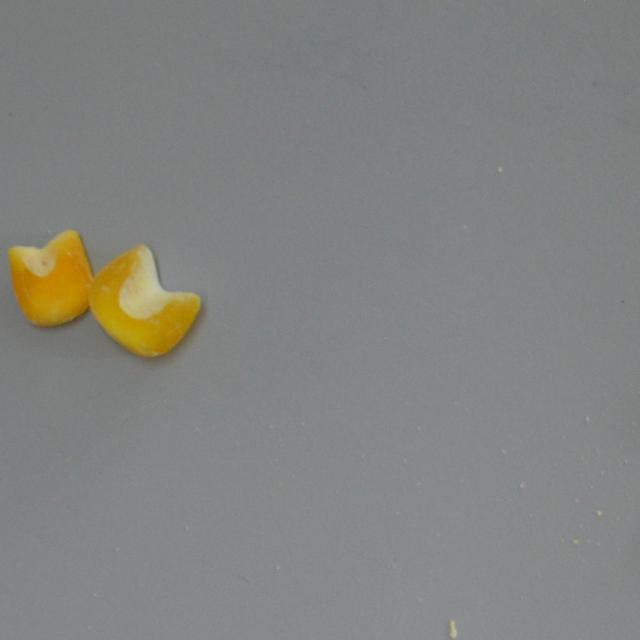no_canjicado: (84, 240, 203, 360)
punto_negro: (4, 226, 97, 330)
